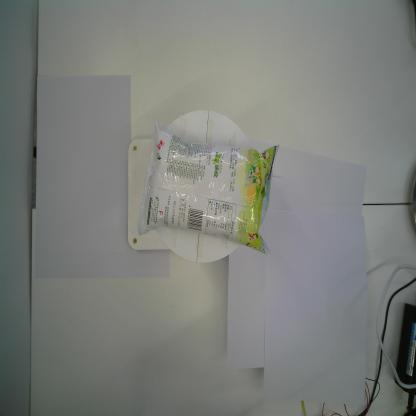Puffed Food: (136, 114, 282, 260)
